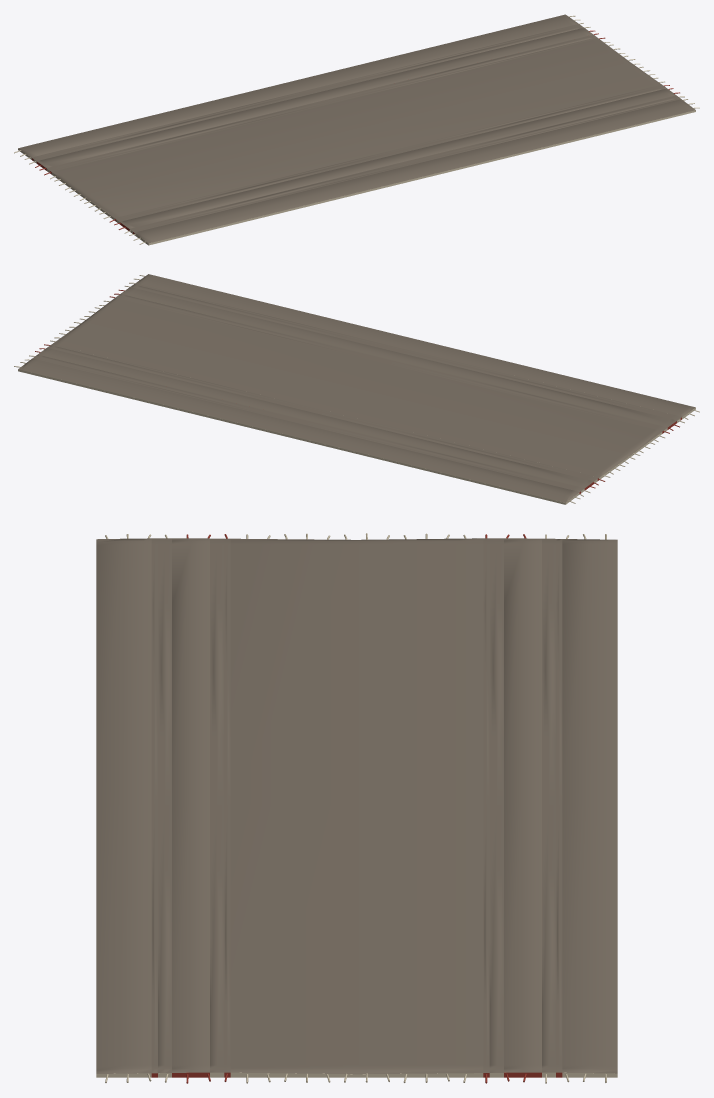
Rendered from kitchen-table-runner-b4531712c0c4.glb.
The picture shows the model from 3 angles, top to bottom: view 1: azimuth 30°, elevation 25°; view 2: azimuth 150°, elevation 25°; view 3: azimuth 270°, elevation 25°; orthographic projection. The views are drawn at different scales.
Visible parts, largest first — view 1: cover-print, paper; view 2: cover-print, paper; view 3: cover-print, paper.
Part boxes in pixels (bbox=[...]): cover-print: bbox=[18, 14, 695, 243]; paper: bbox=[14, 15, 699, 245]; cover-print: bbox=[18, 274, 695, 502]; paper: bbox=[14, 275, 699, 504]; cover-print: bbox=[96, 538, 617, 1074]; paper: bbox=[96, 533, 617, 1083].
Size of the model in its own units: 0.8202 by 0.00403 by 0.33.
